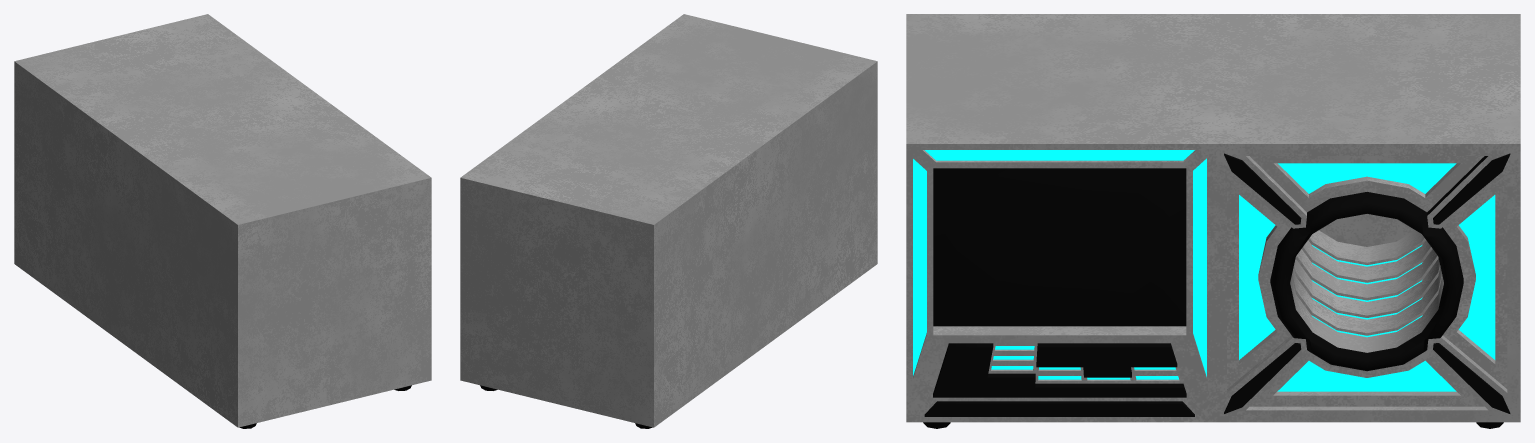
The model's file is audioBox - Texture.gltf.
The picture shows the model from 3 angles, left to right: view 1: azimuth 30°, elevation 25°; view 2: azimuth 150°, elevation 25°; view 3: azimuth 270°, elevation 25°; orthographic projection. The views are drawn at different scales.
Visible parts, largest first — view 1: Cube; view 2: Cube; view 3: Cube.
Boxes of the visible parts, x1,y1,x2,y2 form: Cube: (14, 14, 431, 428); Cube: (460, 14, 877, 428); Cube: (906, 14, 1520, 428).
Size of the model in its own units: 0.8289 by 0.84 by 1.6.
1 material, 1 textured.
